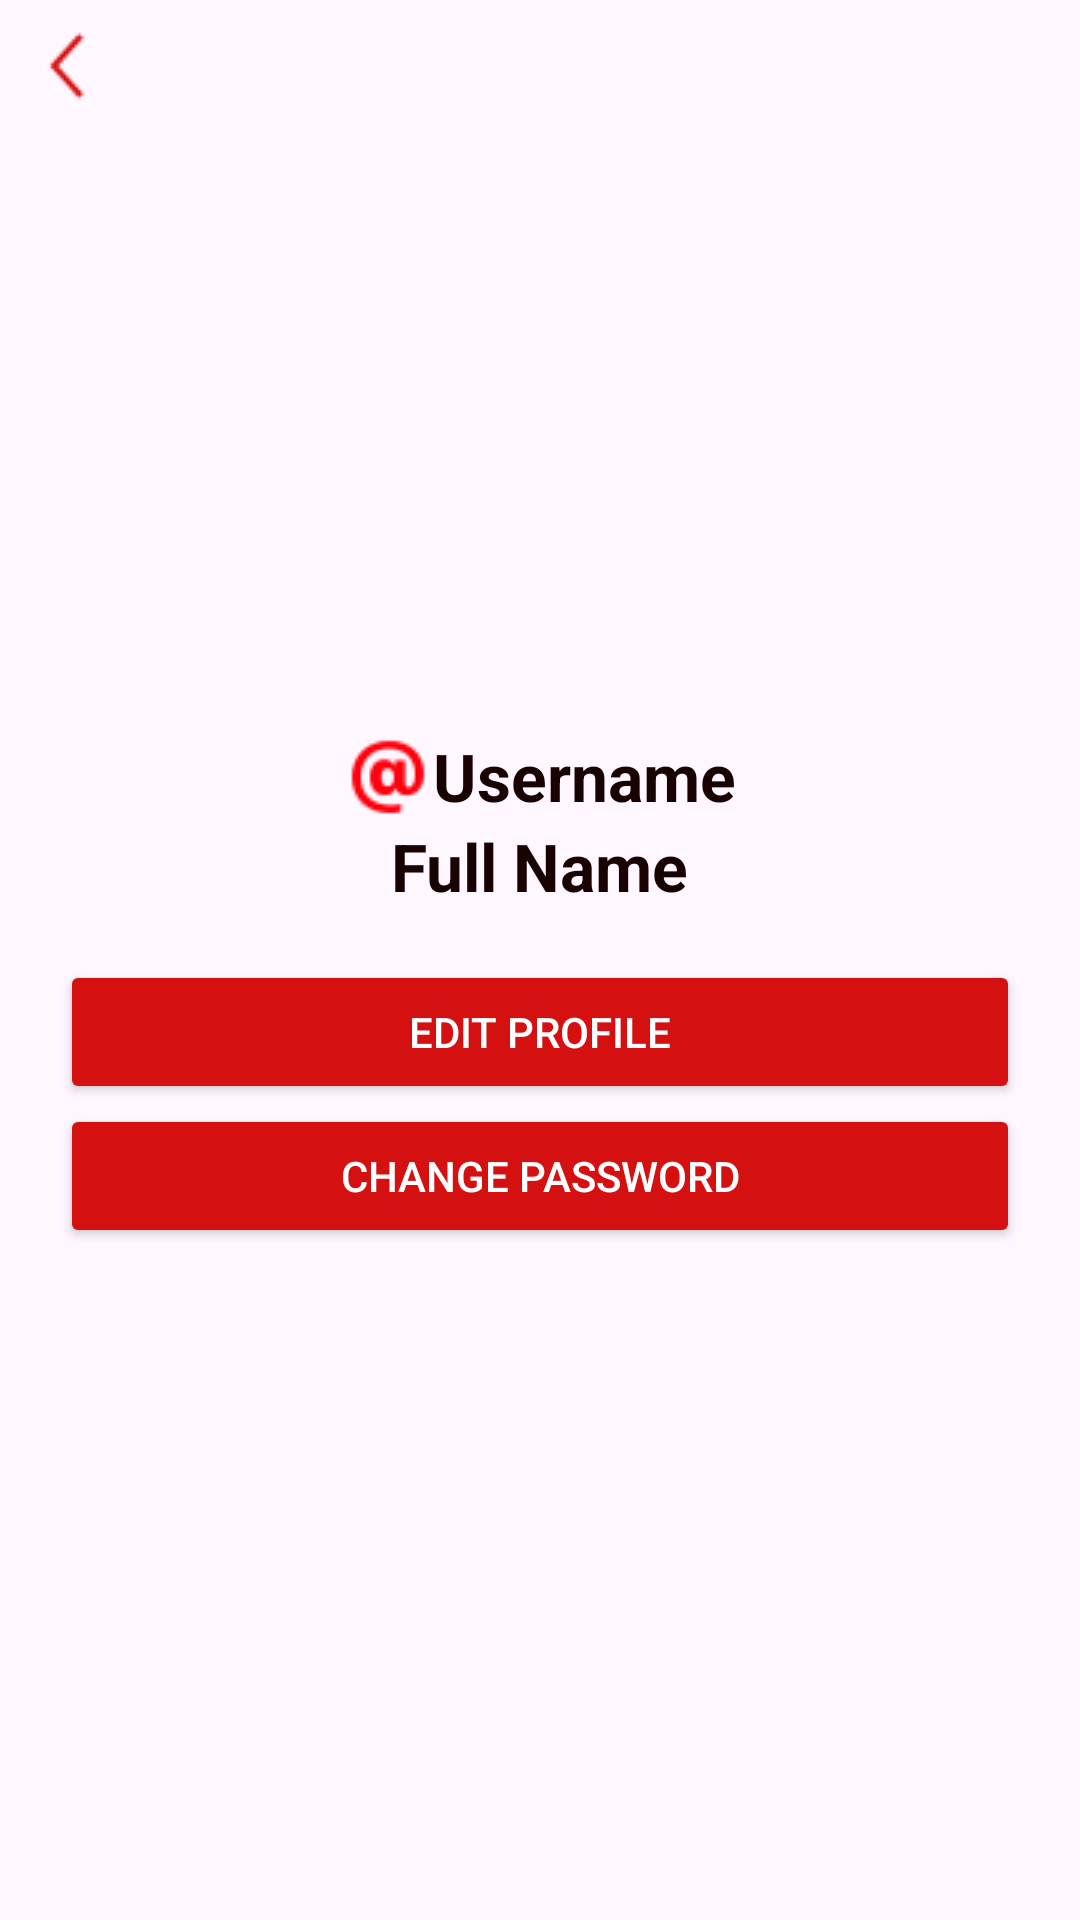

Icons on this 1080*1920 Android screen, each with the point to tap as (x,y):
back: (67,66)
